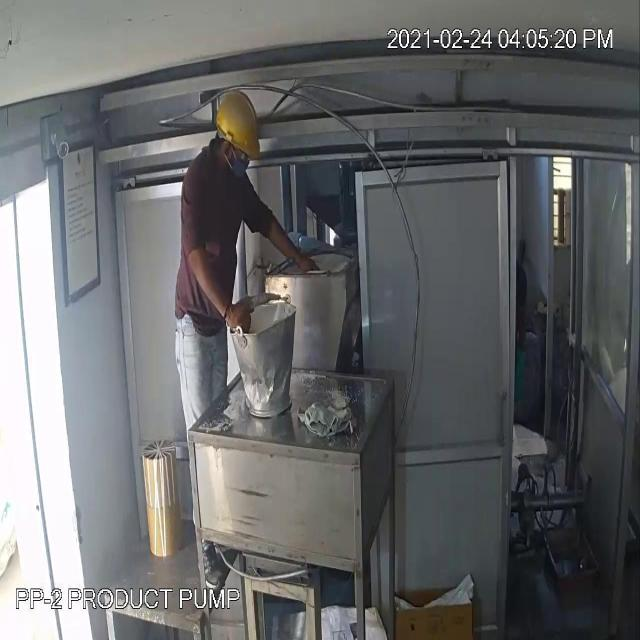helmet: (213, 83, 261, 160)
